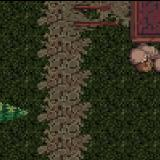Interaction: (70, 0, 110, 36)
Obstacle: (91, 0, 160, 91)
